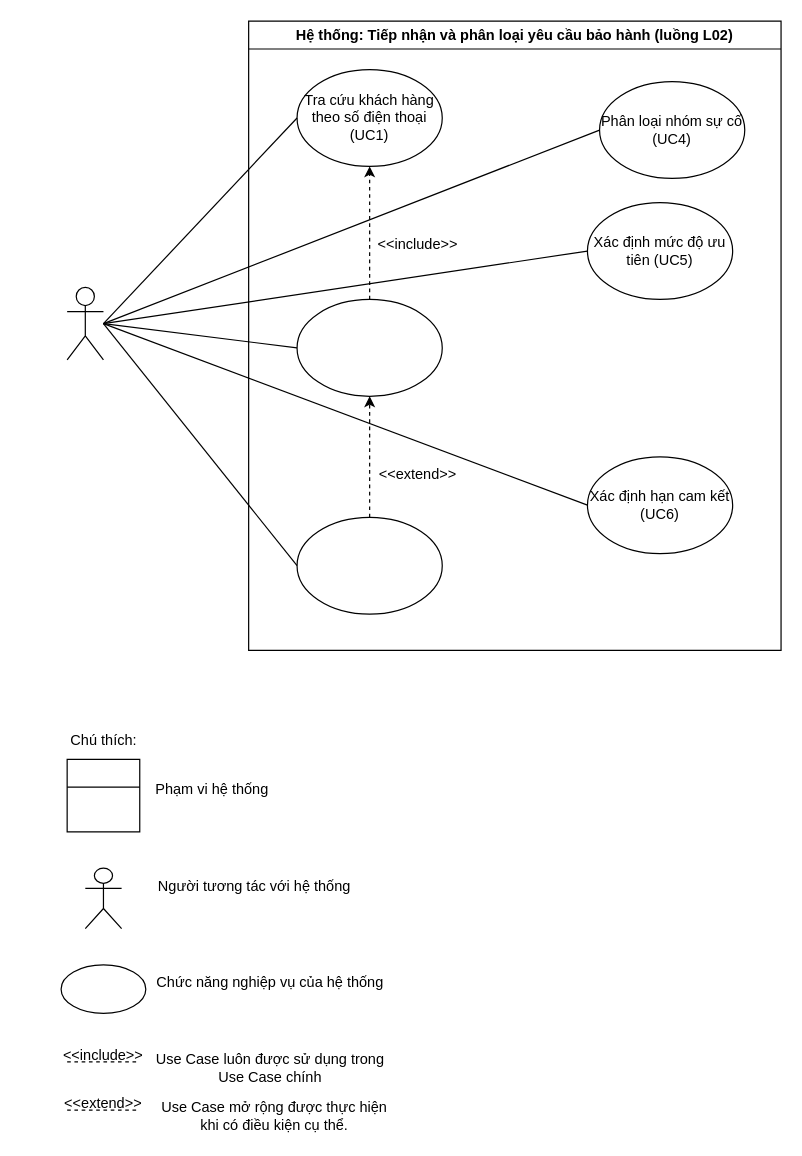
The diagram is 802 pixels wide and 1156 high, and some of its shapes have lost their labels. The centre of each missing label's shape, as x and y in pixels:
Nhân viên tiếp nhận: point (84, 323)
Tạo khách hàng mới khi chưa tồn tại (UC2): point (369, 565)
Tạo phiếu bảo hành mới (UC3): point (369, 347)
